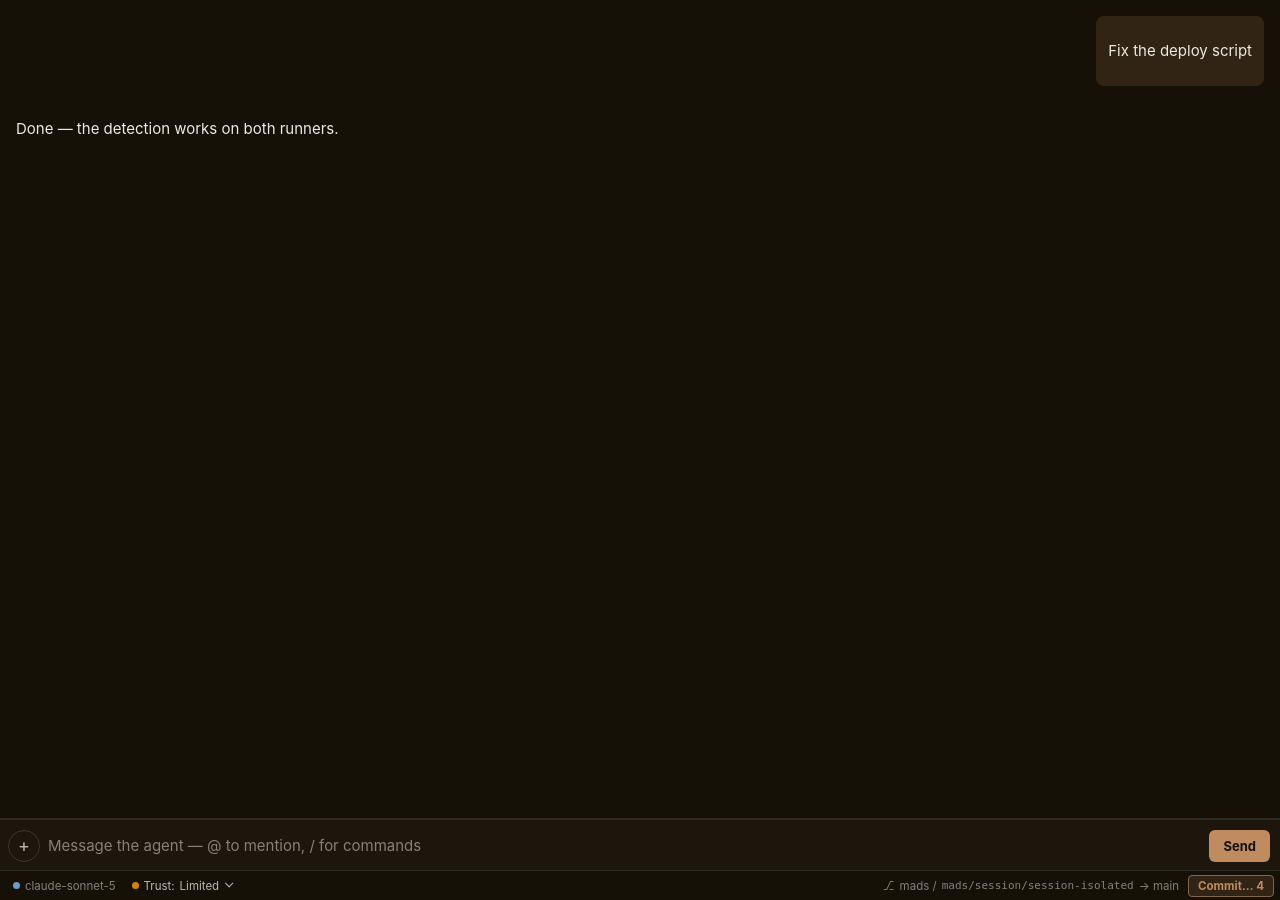
Test case: ConversationTab — Commit and Land › opens the Commit dialog from the dock when one-click commits are off
Expected: the text "Done — the detection works on both runners." is shown, left=16, top=117, right=339, bottom=141
Click the button "Commit… 4".
click(1231, 886)  # box left=1188, top=874, right=1274, bottom=896
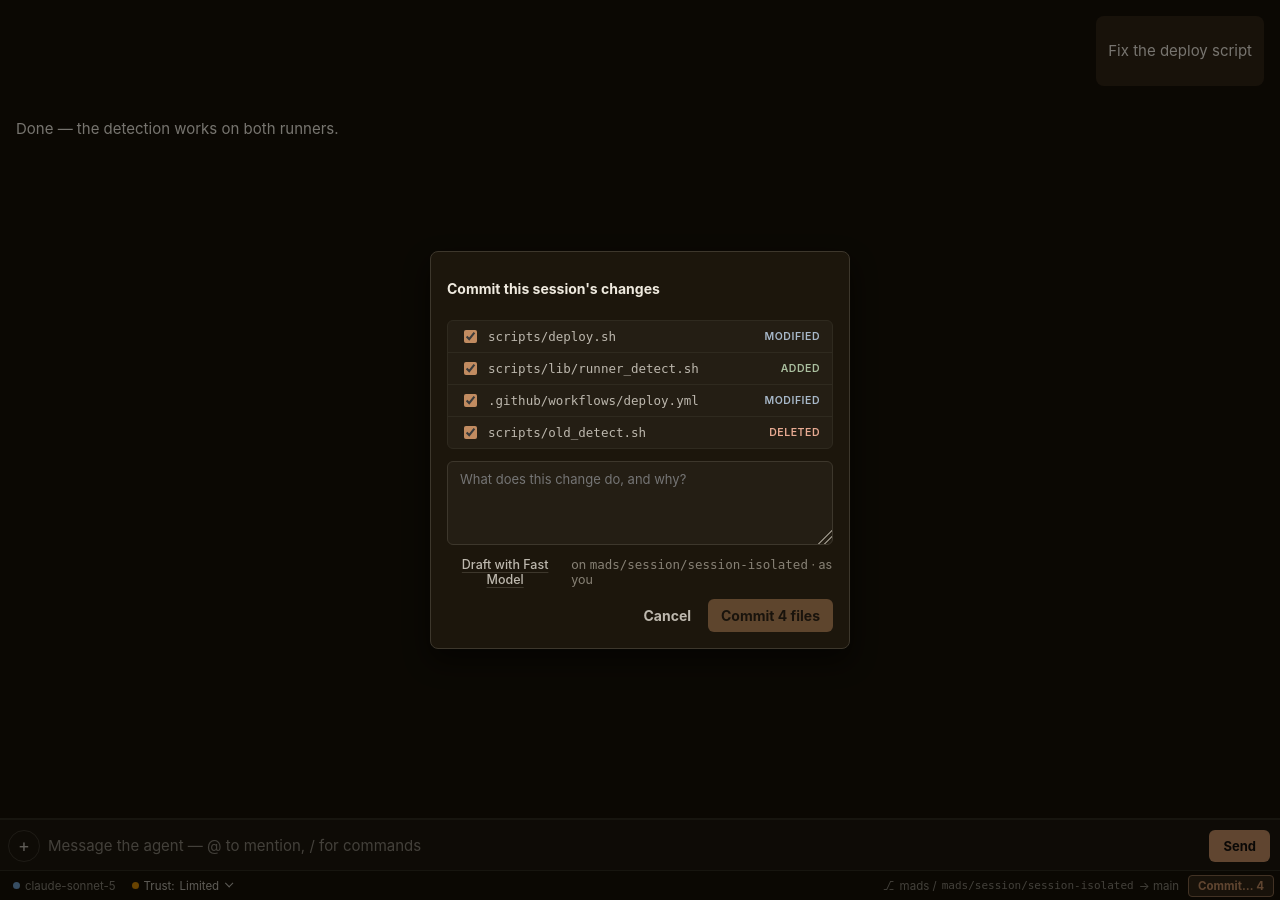
Expected: the dialog is shown, left=430, top=251, right=850, bottom=649
Expected: the text "scripts/deploy.sh" is shown, left=488, top=329, right=616, bottom=344
